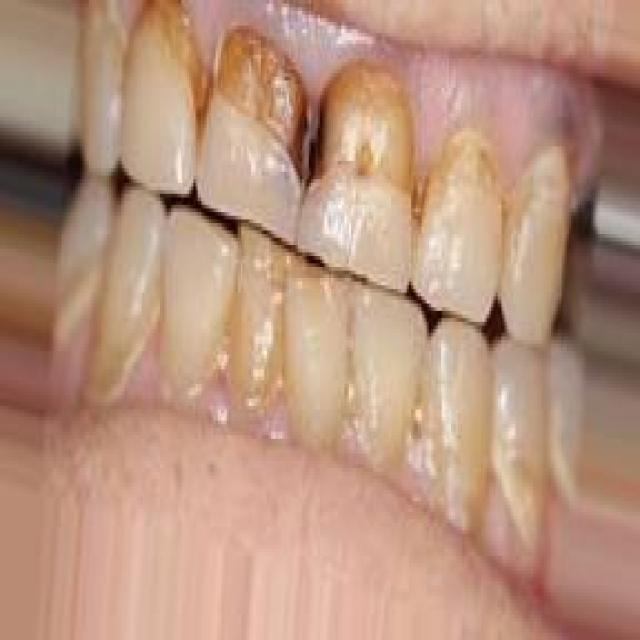caries: (301, 59, 421, 211), (213, 22, 305, 171), (143, 0, 214, 122)
